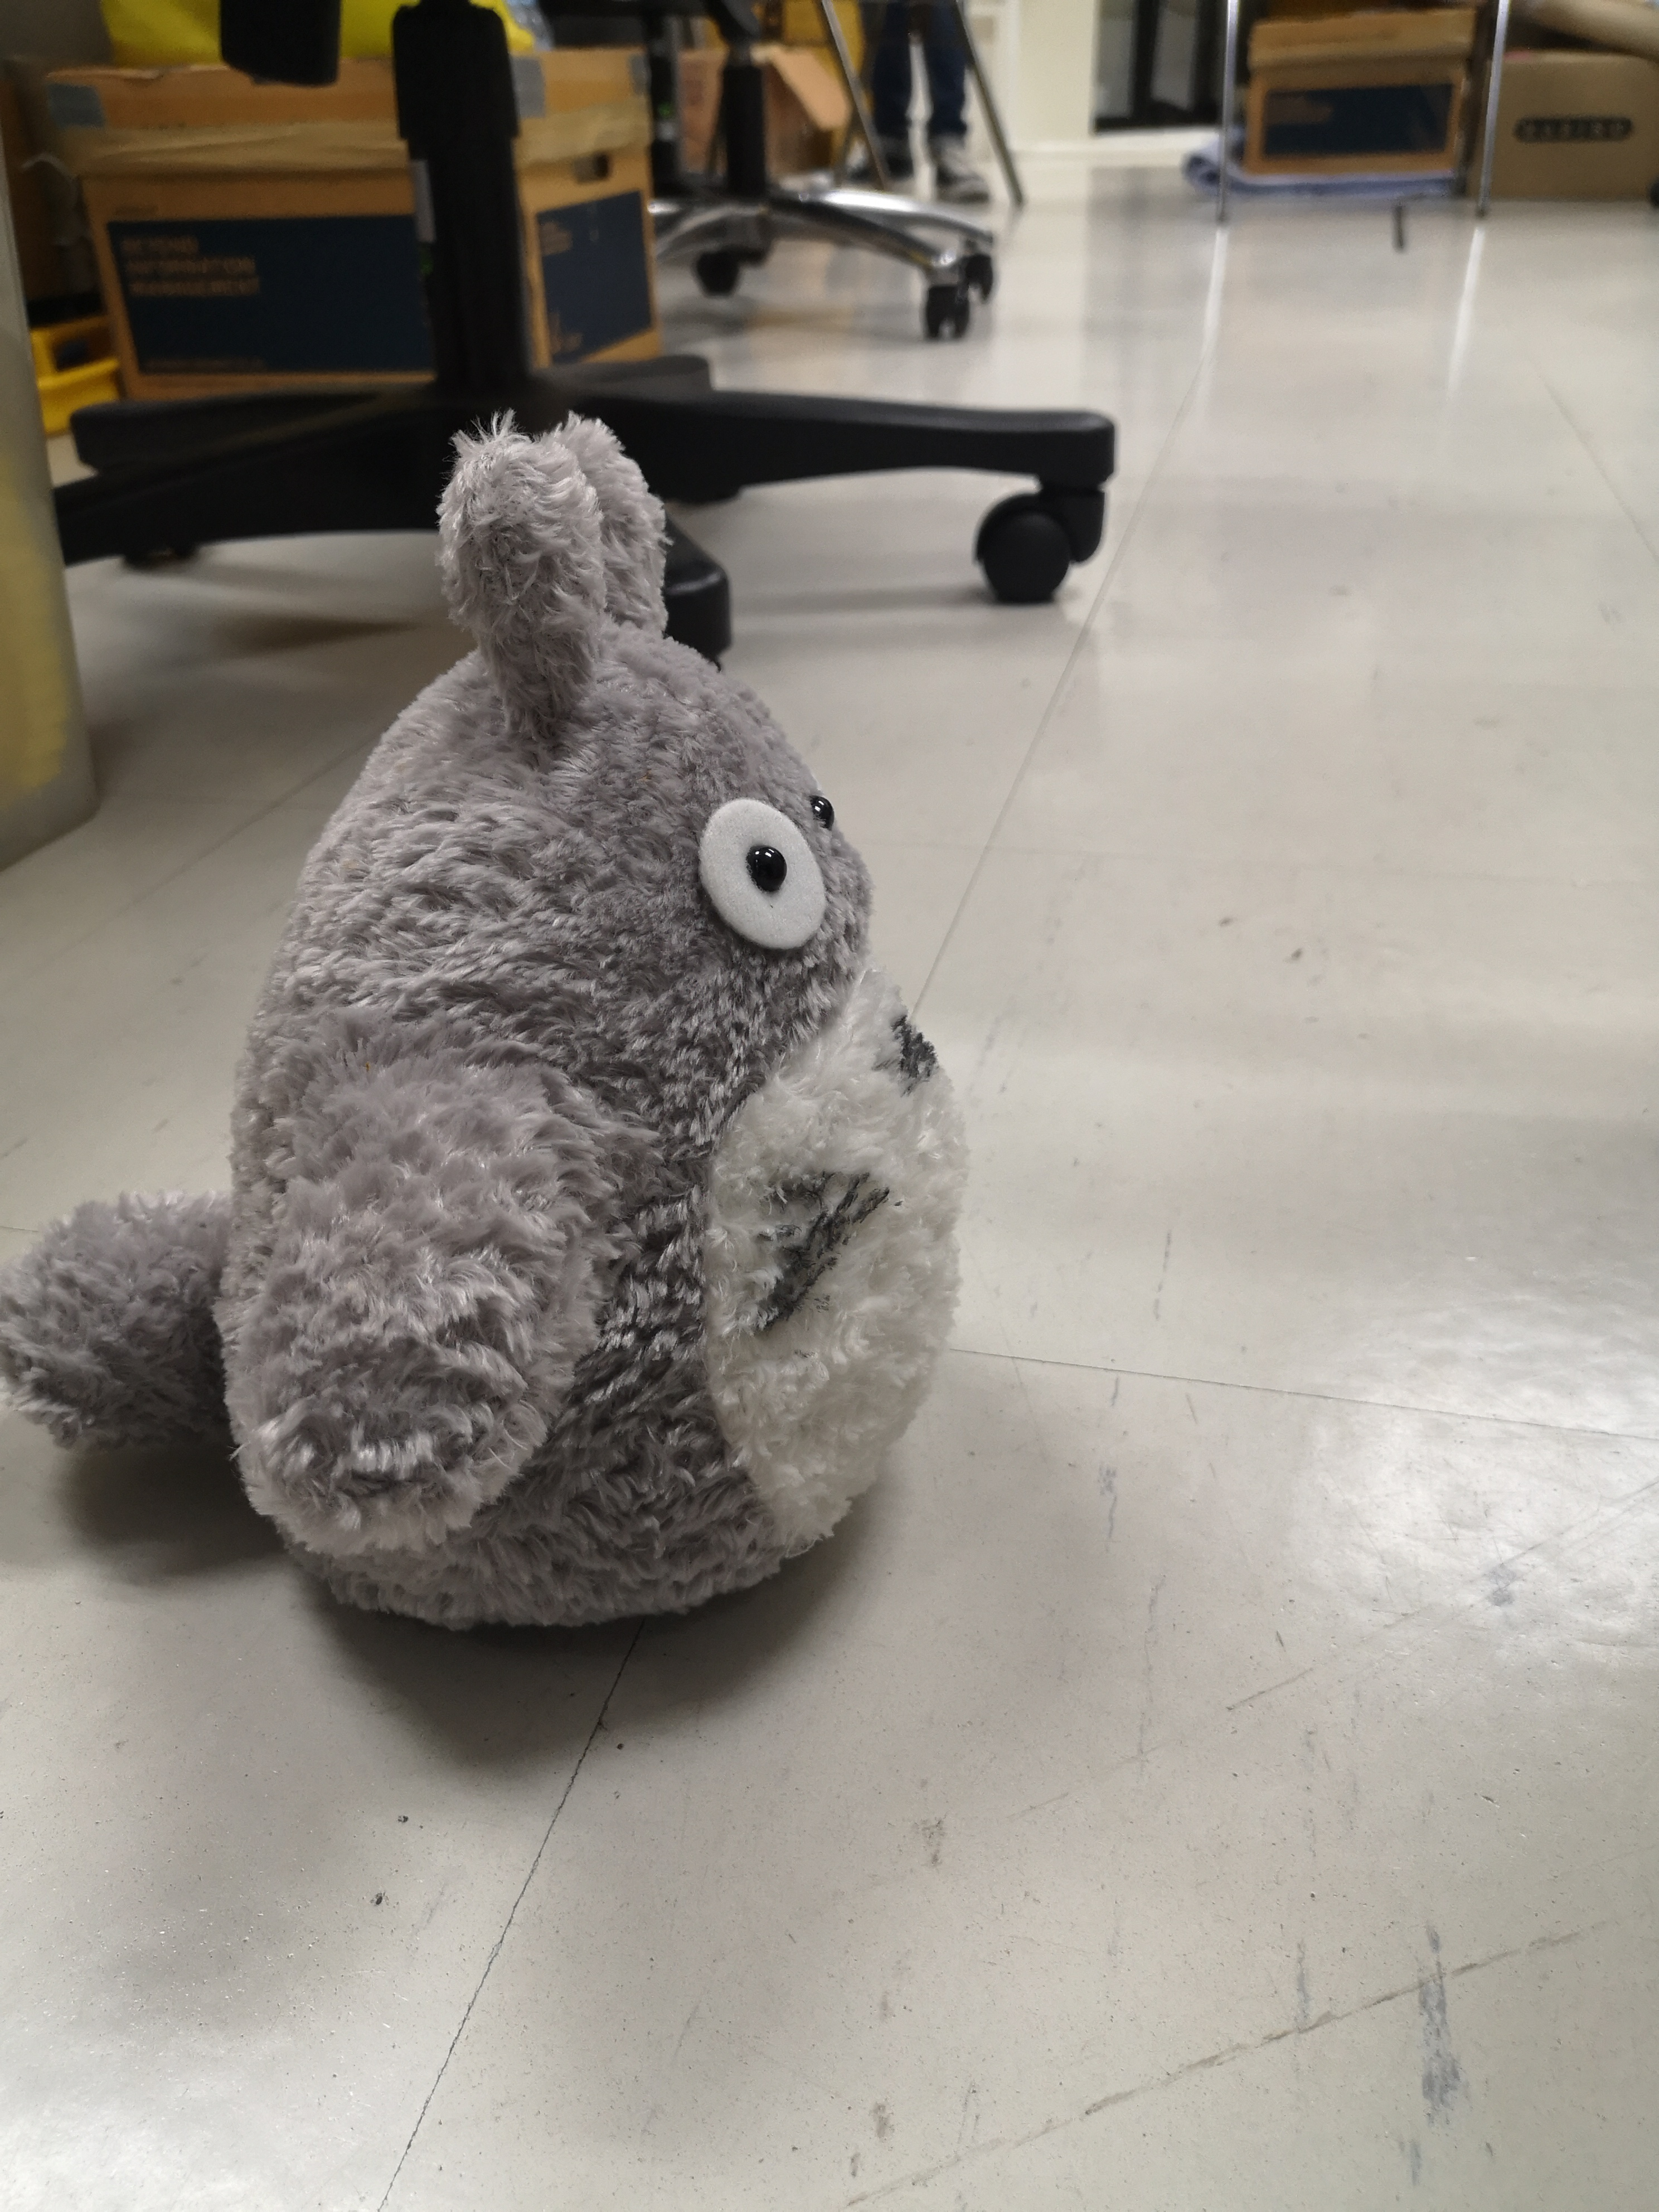totoro: (5, 401, 979, 1663)
